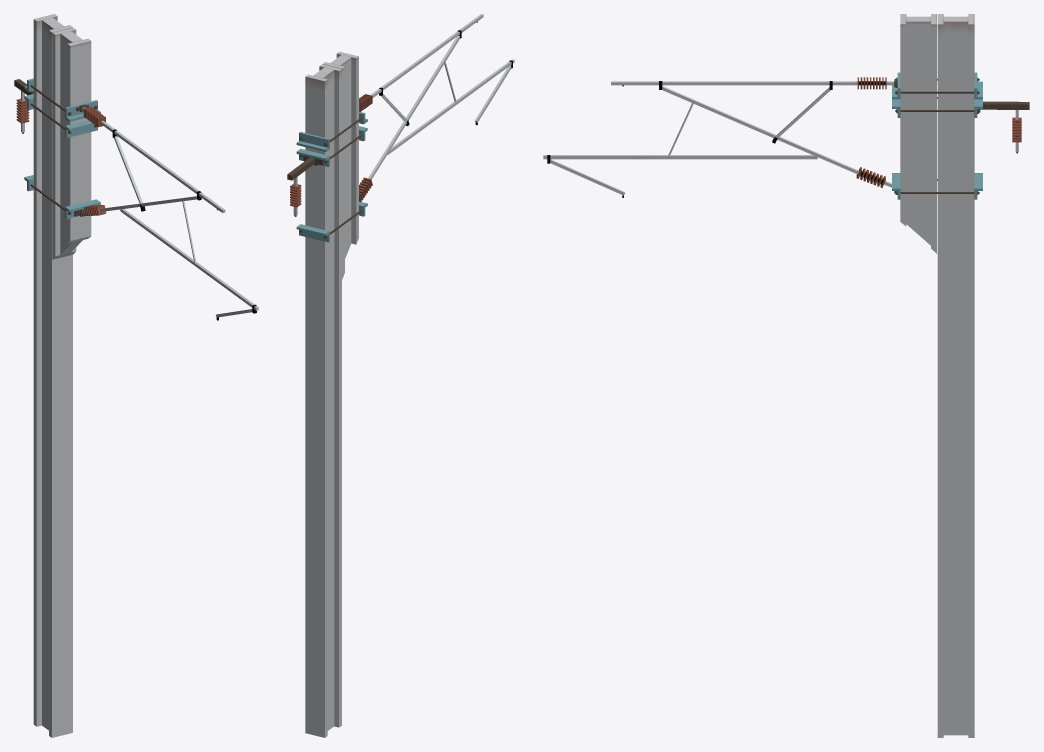
Rendered from double_column_wire_node_anti.obj.
The picture shows the model from 3 angles, left to right: view 1: azimuth 30°, elevation 25°; view 2: azimuth 150°, elevation 25°; view 3: azimuth 270°, elevation 25°; orthographic projection. The views are drawn at different scales.
Visible parts, largest first — view 1: catenary.001, catenary.002, catenary_anti, catenary_anti.001; view 2: catenary.001, catenary_anti, catenary.002, catenary_anti.001; view 3: catenary.001, catenary.002, catenary_anti, catenary_anti.001.
Boxes of the visible parts, bbox=[...] form: catenary.001: bbox=[33, 14, 72, 737]; catenary.002: bbox=[52, 27, 91, 259]; catenary_anti: bbox=[24, 78, 258, 320]; catenary_anti.001: bbox=[14, 79, 97, 137]; catenary.001: bbox=[305, 64, 341, 737]; catenary_anti: bbox=[296, 14, 514, 242]; catenary.002: bbox=[323, 51, 358, 279]; catenary_anti.001: bbox=[287, 126, 367, 216]; catenary.001: bbox=[937, 14, 974, 737]; catenary.002: bbox=[900, 14, 936, 253]; catenary_anti: bbox=[543, 72, 982, 199]; catenary_anti.001: bbox=[892, 97, 1029, 153].
Size of the model in its own units: 0.375 by 8 by 4.94.
Materials: 2 (2 with a texture image).
